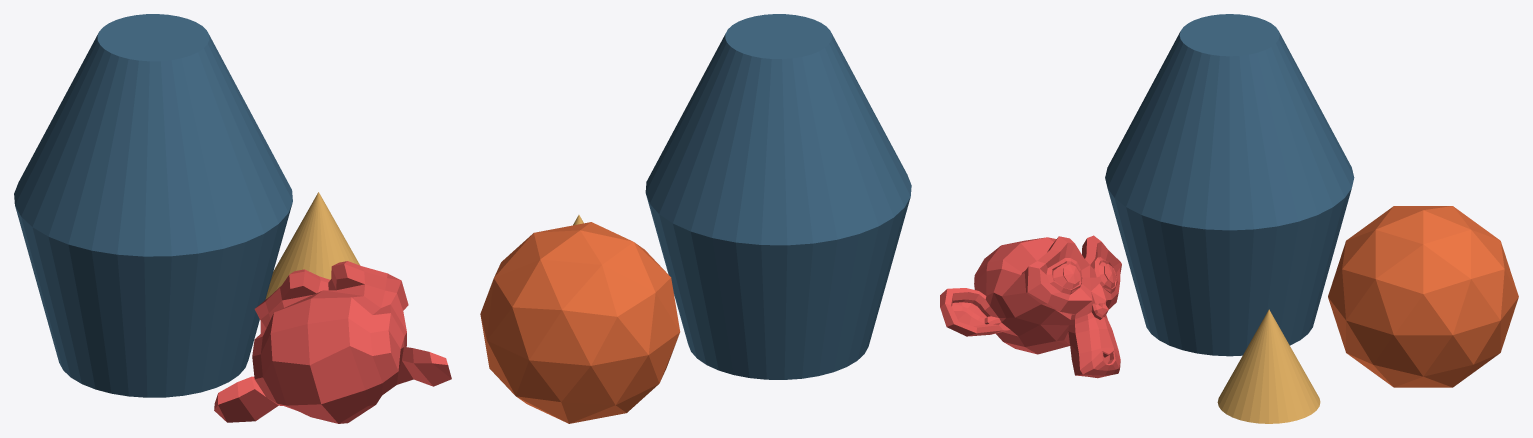
The picture shows the model from 3 angles, left to right: view 1: azimuth 30°, elevation 25°; view 2: azimuth 150°, elevation 25°; view 3: azimuth 270°, elevation 25°; orthographic projection. The views are drawn at different scales.
Parts seen in each view (by area): view 1: Objet_2_Lampe, Objet_1_Suzanne, Objet_3_Cone; view 2: Objet_2_Lampe, Objet_4_Ballon; view 3: Objet_2_Lampe, Objet_4_Ballon, Objet_1_Suzanne, Objet_3_Cone.
Boxes of the visible parts, bbox=[...] form: Objet_2_Lampe: bbox=[14, 14, 292, 397]; Objet_1_Suzanne: bbox=[214, 261, 451, 423]; Objet_3_Cone: bbox=[265, 192, 359, 299]; Objet_2_Lampe: bbox=[645, 14, 911, 379]; Objet_4_Ballon: bbox=[480, 222, 680, 423]; Objet_2_Lampe: bbox=[1105, 14, 1354, 356]; Objet_4_Ballon: bbox=[1328, 206, 1518, 387]; Objet_1_Suzanne: bbox=[940, 235, 1121, 378]; Objet_3_Cone: bbox=[1217, 309, 1320, 423].
Size of the model in its own units: 1.02 by 0.9347 by 1.61.
